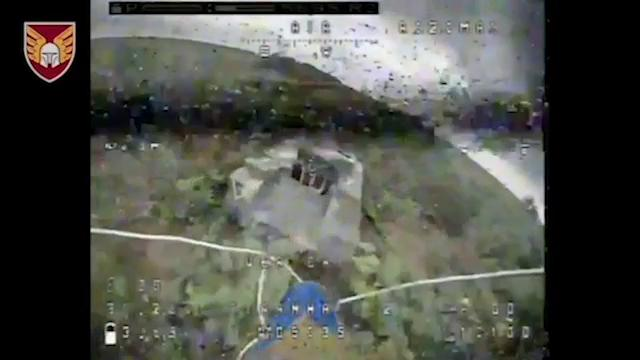tank: (225, 124, 371, 280)
